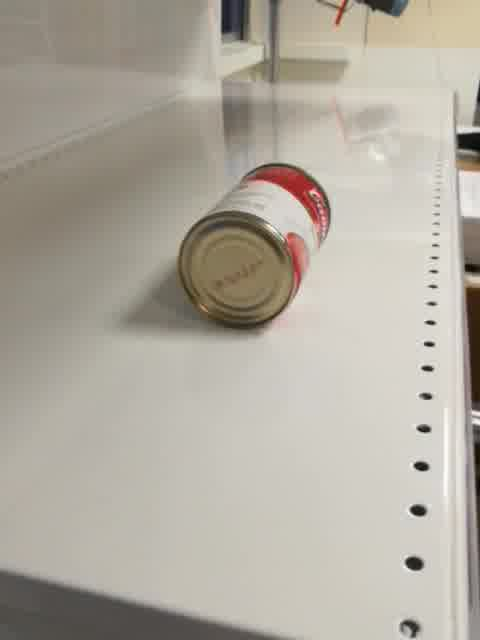tomatosoup: (177, 160, 331, 328)
